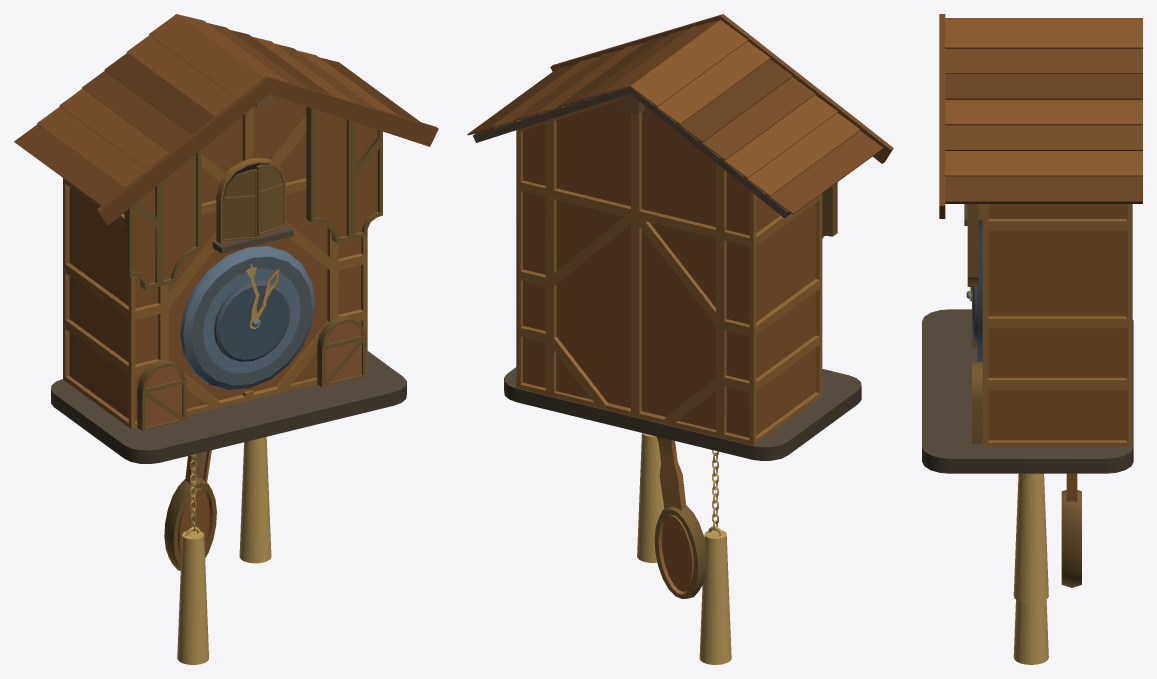
Rendered from cuckoo-clock_-_xyz_speedraft.glb.
3 renders of one model, left to right at view 1: azimuth 30°, elevation 25°; view 2: azimuth 150°, elevation 25°; view 3: azimuth 270°, elevation 25°, orthographic. The views are drawn at different scales.
Visible parts, largest first — view 1: Plane_14, Plane.007_13, Plane.002_5, Circle_2, Plane.001_4, Plane.005_8, Plane.004_6, Cylinder.001_11, Cylinder_10, Cube.002_9, Plane.003_7; view 2: Plane_14, Plane.007_13, Cube.002_9, Plane.001_4, Cylinder.001_11, Cylinder_10, Plane.002_5; view 3: Plane_14, Plane.007_13, Cylinder_10, Cube.002_9, Cylinder.001_11, Plane.001_4, Circle_2, Plane.005_8, Plane.002_5.
Boxes of the visible parts, x1,y1,x2,y2 form: Plane_14: (51,95,406,463); Plane.007_13: (14,14,419,205); Plane.002_5: (124,106,382,289); Circle_2: (180,246,315,389); Plane.001_4: (97,76,438,225); Plane.005_8: (137,316,366,431); Plane.004_6: (222,164,285,241); Cylinder.001_11: (177,454,208,664); Cylinder_10: (239,437,271,563); Cube.002_9: (164,450,216,570); Plane.003_7: (212,158,293,253); Plane_14: (504,96,861,460); Plane.007_13: (467,20,883,214); Cube.002_9: (654,436,707,598); Plane.001_4: (473,14,893,217); Cylinder.001_11: (699,450,731,664); Cylinder_10: (637,433,664,562); Plane.002_5: (822,182,837,238); Plane_14: (922,204,1133,473); Plane.007_13: (945,18,1142,202); Cylinder_10: (1013,473,1048,603); Cube.002_9: (1061,473,1081,587); Cylinder.001_11: (1013,600,1048,664); Plane.001_4: (939,14,1142,218); Circle_2: (966,226,982,361); Plane.005_8: (972,287,982,443); Plane.002_5: (967,204,978,286).
Size of the model in its own units: 5.75 by 9.76 by 2.95.
